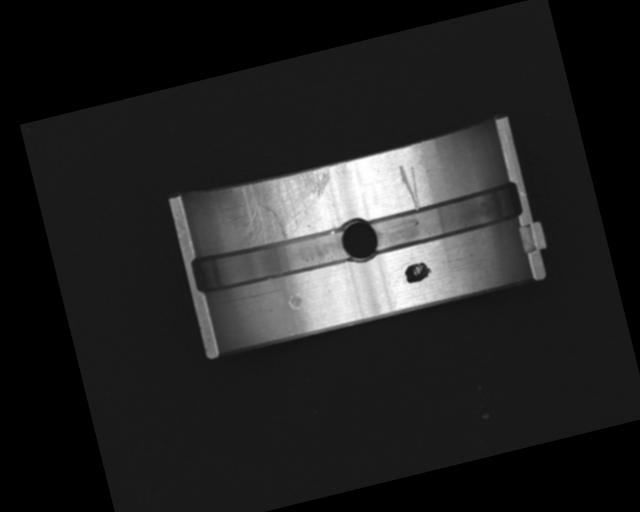blot: (402, 259, 434, 286)
bruise: (286, 291, 303, 311)
gap: (188, 221, 351, 298), (370, 182, 524, 253)
hole: (337, 214, 382, 266)
nick: (396, 162, 425, 213)
scratch: (228, 162, 343, 251)
